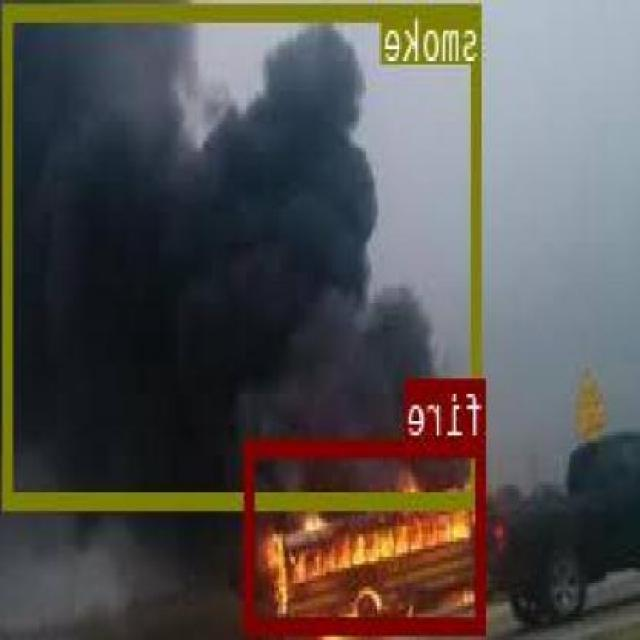Fire: (246, 437, 488, 632)
Smoke: (4, 3, 483, 506)
